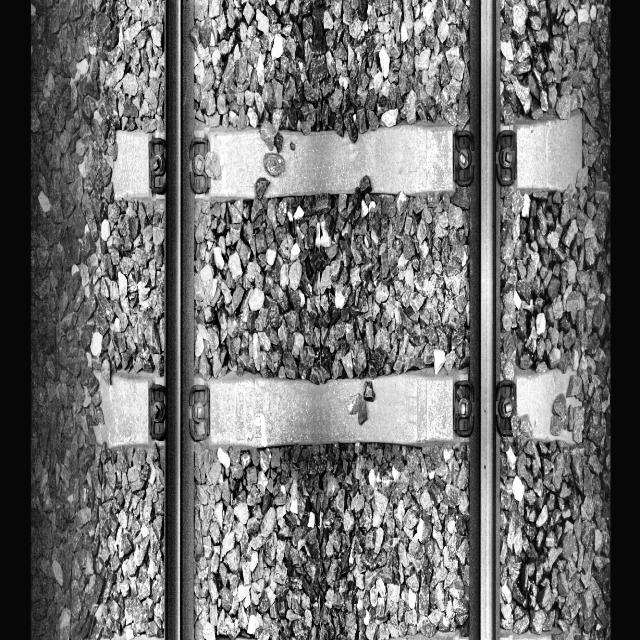Clips: (451, 131, 475, 188), (189, 138, 212, 195), (495, 379, 517, 436), (188, 385, 210, 440), (496, 130, 518, 185), (147, 136, 167, 194), (453, 382, 473, 436), (148, 384, 166, 442)
Sleepers: (93, 368, 582, 444), (113, 124, 582, 200)
